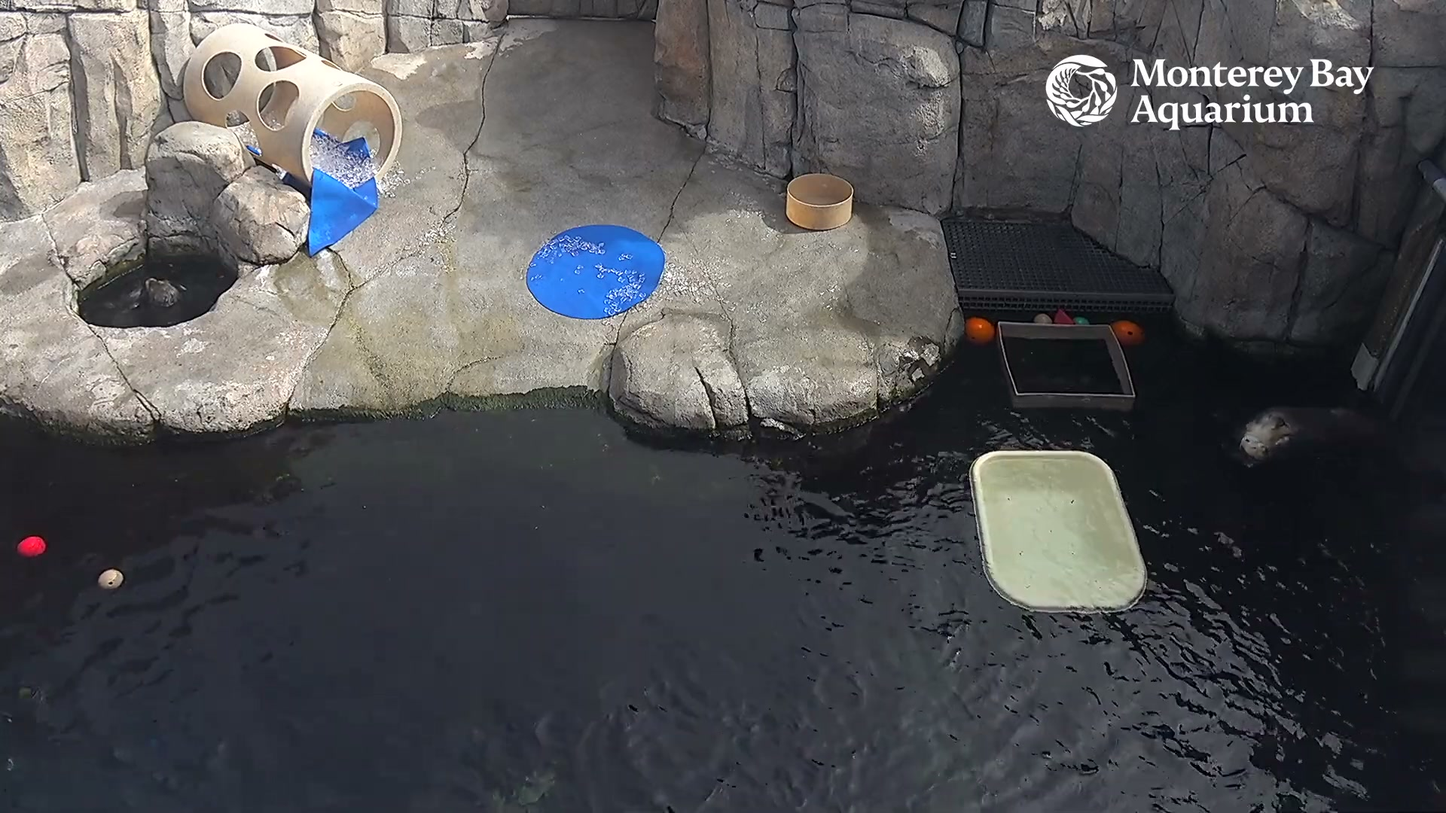Southern Sea Otter: (133, 279, 211, 331)
